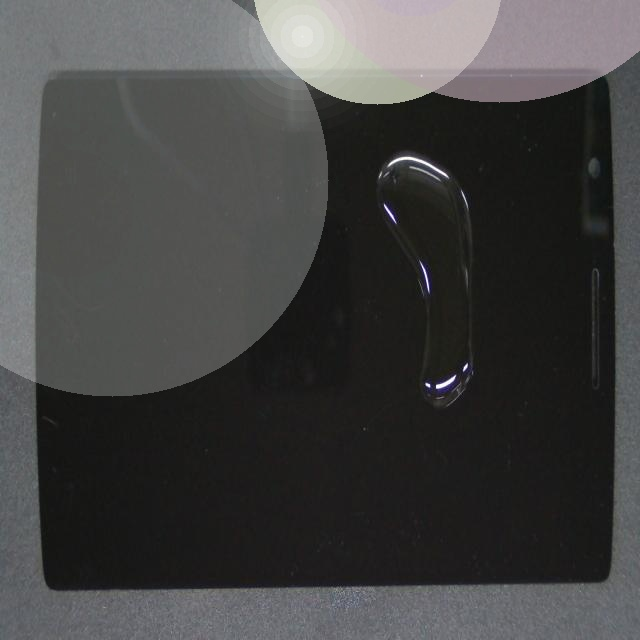oil: (196, 200, 640, 599)
